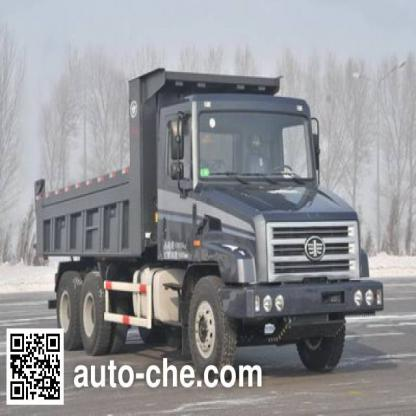normal-truck: (10, 70, 392, 332)
